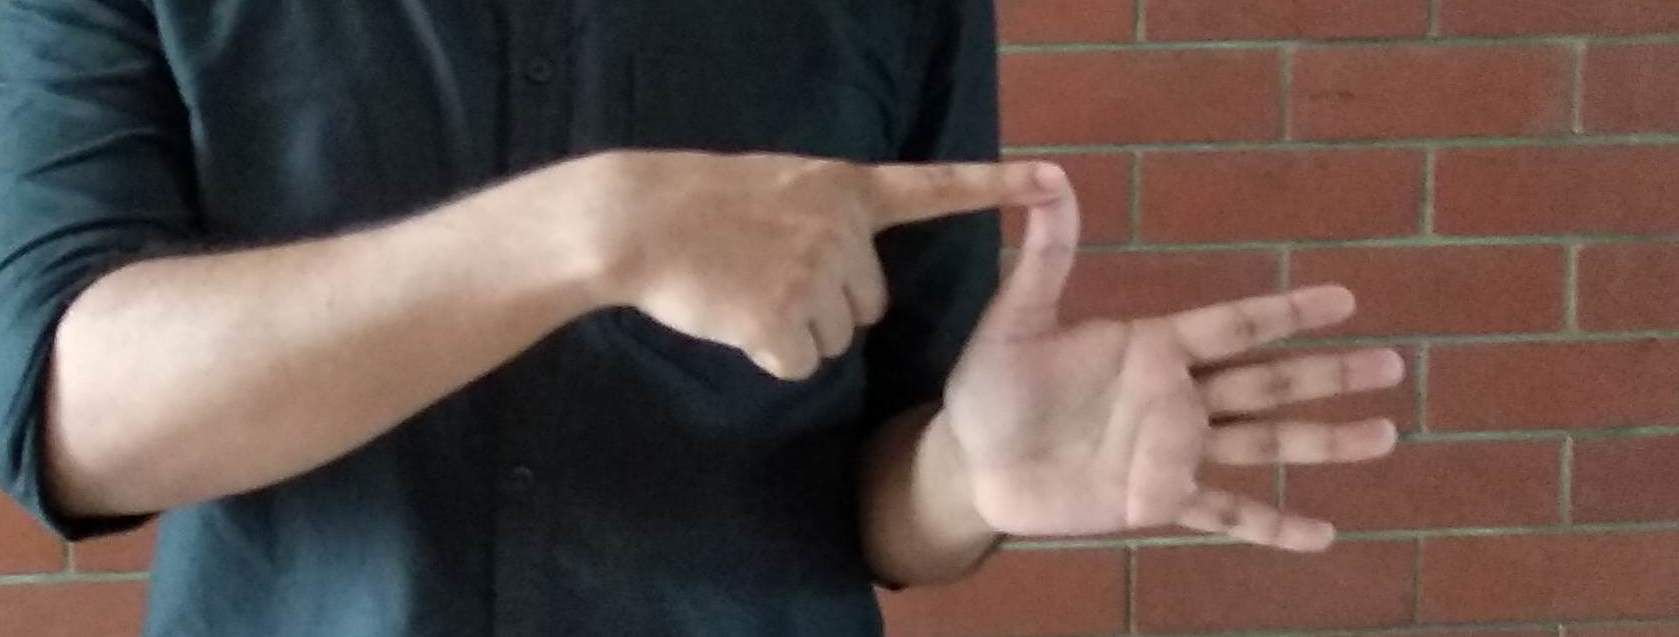a: (623, 138, 1450, 571)
